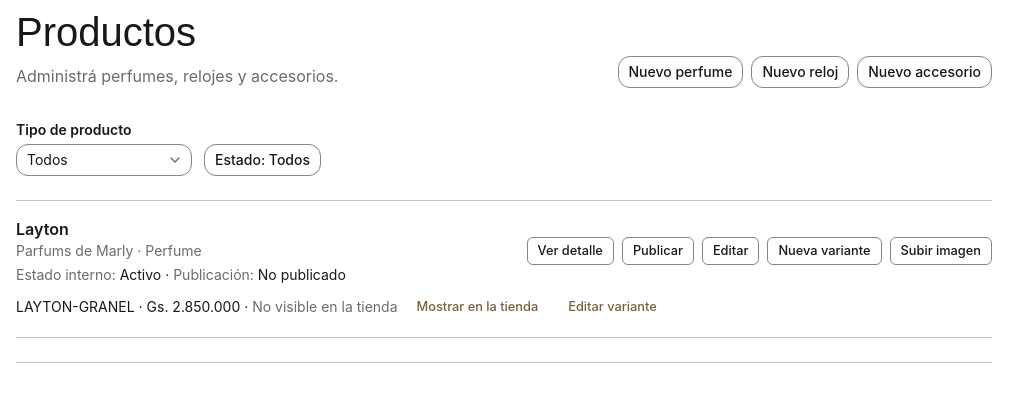
RF-CAT-09 · publicar, despublicar y mostrar variantes › si la API rechaza el cambio muestra el motivo, sin avisar éxito
Click the button with aria-label "Mostrar en la tienda LAYTON-GRANEL" at [477, 307], box [406,293,549,321]
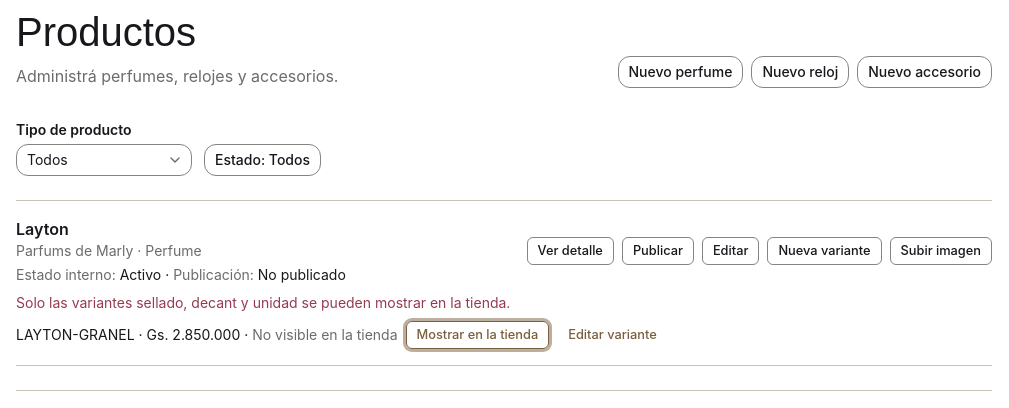
Expected: the text "Solo las variantes sellado, decant y unidad se pueden mostrar en la tienda." is shown, [16,294,510,311]
